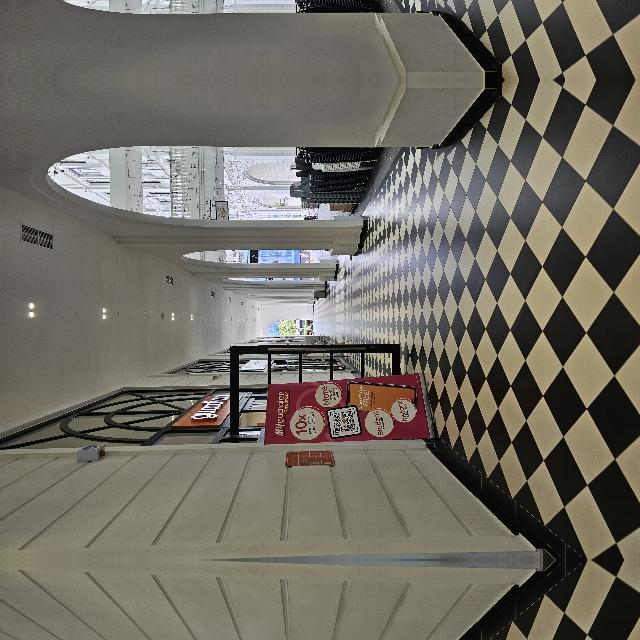obstacle: (118, 306, 220, 498), (118, 621, 220, 640)
